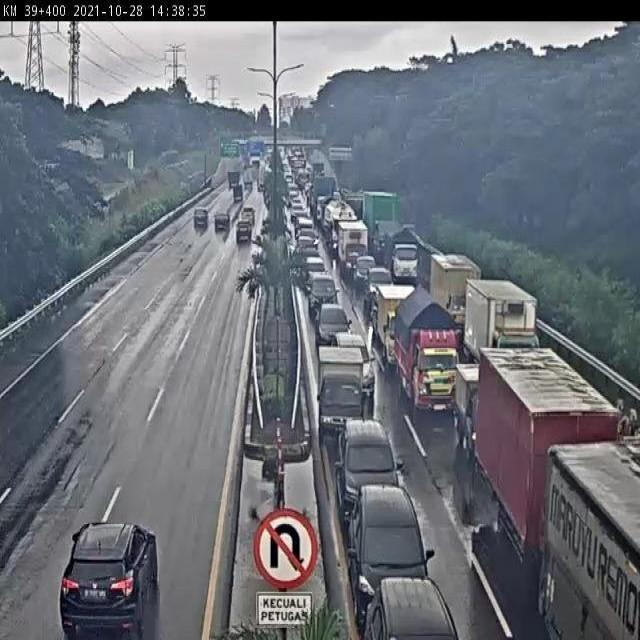big truck: (482, 353, 615, 536), (543, 440, 635, 633)
car: (55, 518, 164, 640), (355, 484, 432, 575), (373, 573, 458, 640), (335, 427, 410, 502), (337, 331, 371, 393), (315, 302, 349, 342), (309, 278, 346, 314), (355, 253, 384, 291), (370, 265, 392, 308), (186, 208, 208, 236), (232, 225, 253, 252), (305, 257, 327, 280), (210, 212, 227, 241), (236, 205, 252, 232)
small truck: (465, 278, 535, 374), (399, 287, 456, 397), (319, 342, 377, 426), (455, 364, 498, 451), (374, 286, 422, 362), (428, 252, 476, 319), (384, 225, 420, 276), (337, 221, 370, 275)
